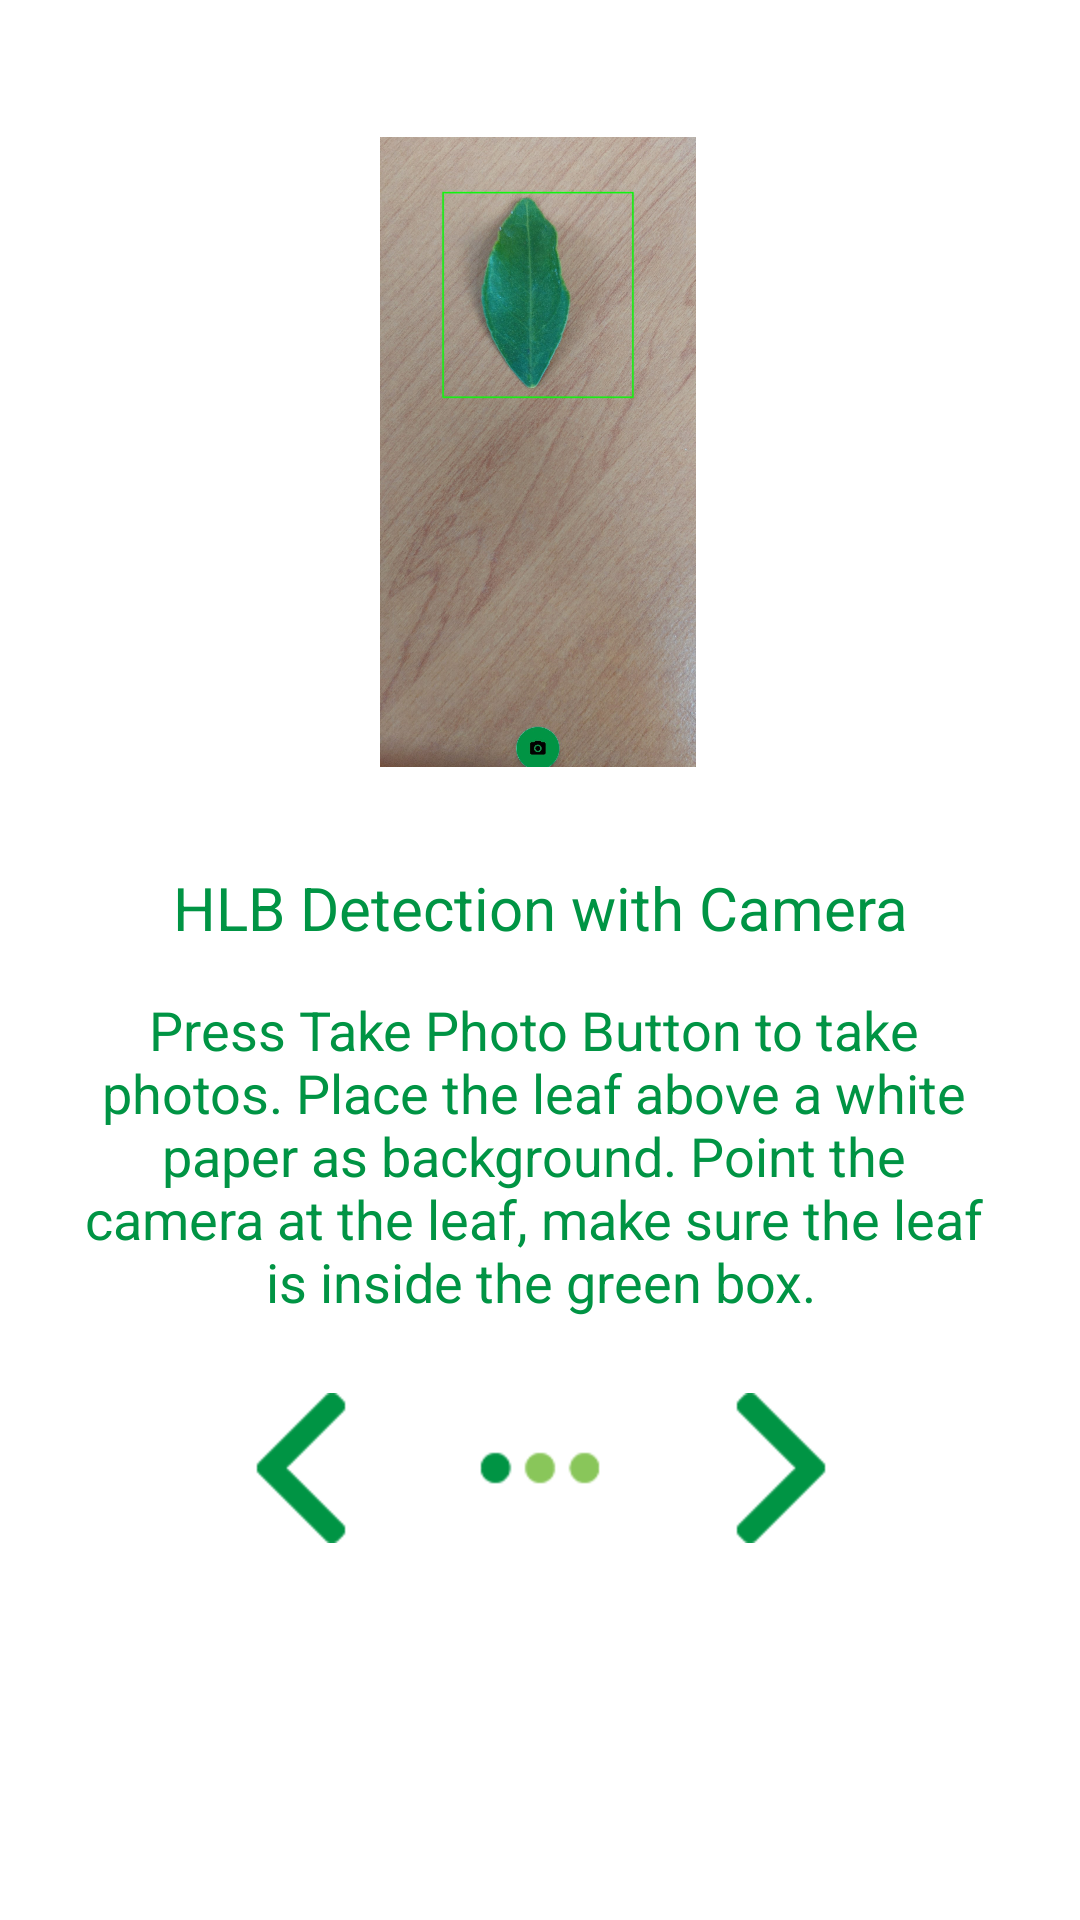

Locate icon controls on the screen. Image size 1080px×1920px, boxes as box(x1, y1, x2, y2).
arrow left: box(256, 1393, 346, 1543)
arrow right: box(736, 1393, 826, 1543)
dot: box(480, 1452, 600, 1484)
